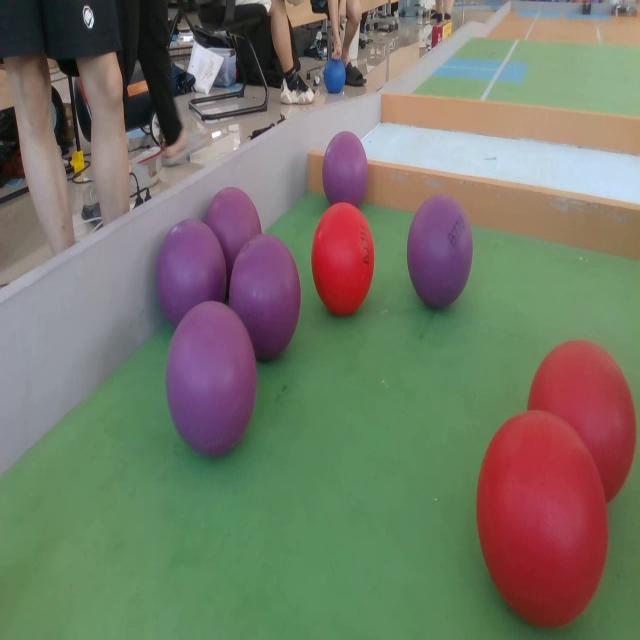invalid: (166, 299, 255, 451), (231, 235, 298, 354), (412, 197, 474, 306), (160, 220, 226, 315), (323, 116, 368, 210), (210, 182, 260, 266)
red: (475, 410, 607, 630), (528, 340, 635, 502), (311, 202, 373, 316)
